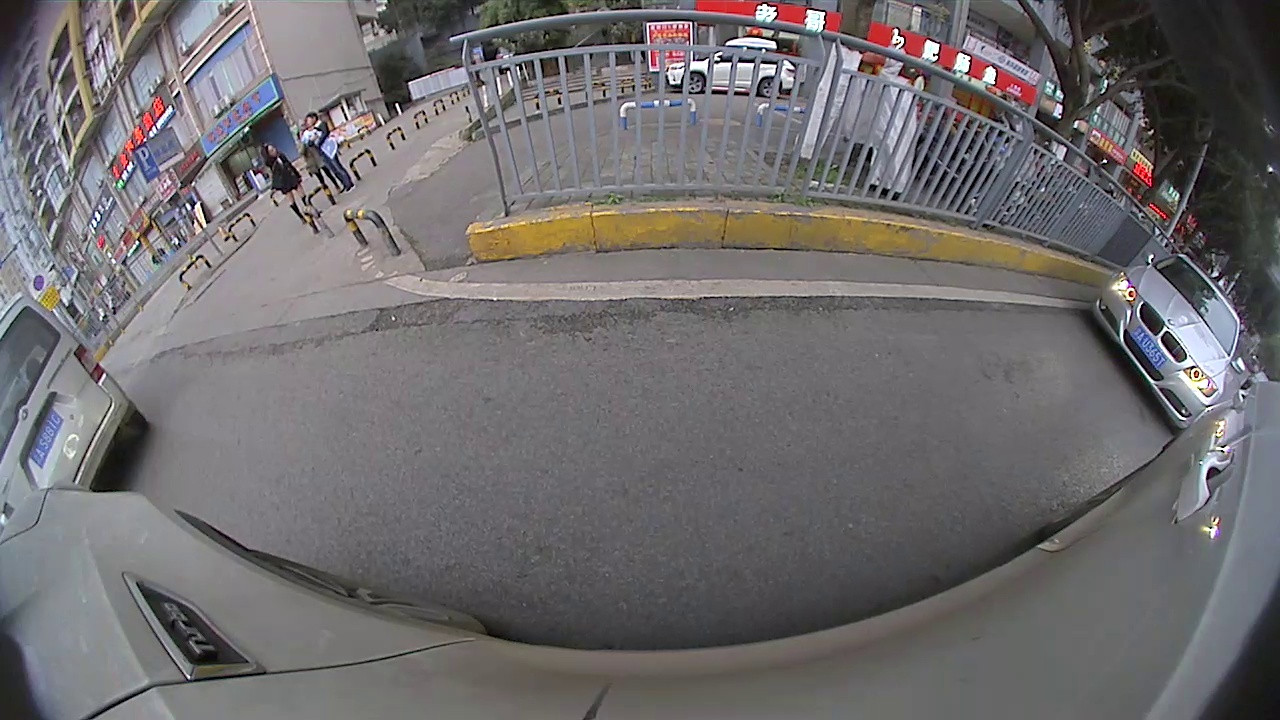car: (237, 24, 878, 275), (730, 80, 929, 186), (51, 212, 171, 328), (1048, 233, 1150, 338), (1186, 384, 1255, 477)
front: (749, 182, 836, 270), (690, 308, 768, 373)
rear: (1102, 309, 1127, 333)
rider: (231, 1, 810, 374)
